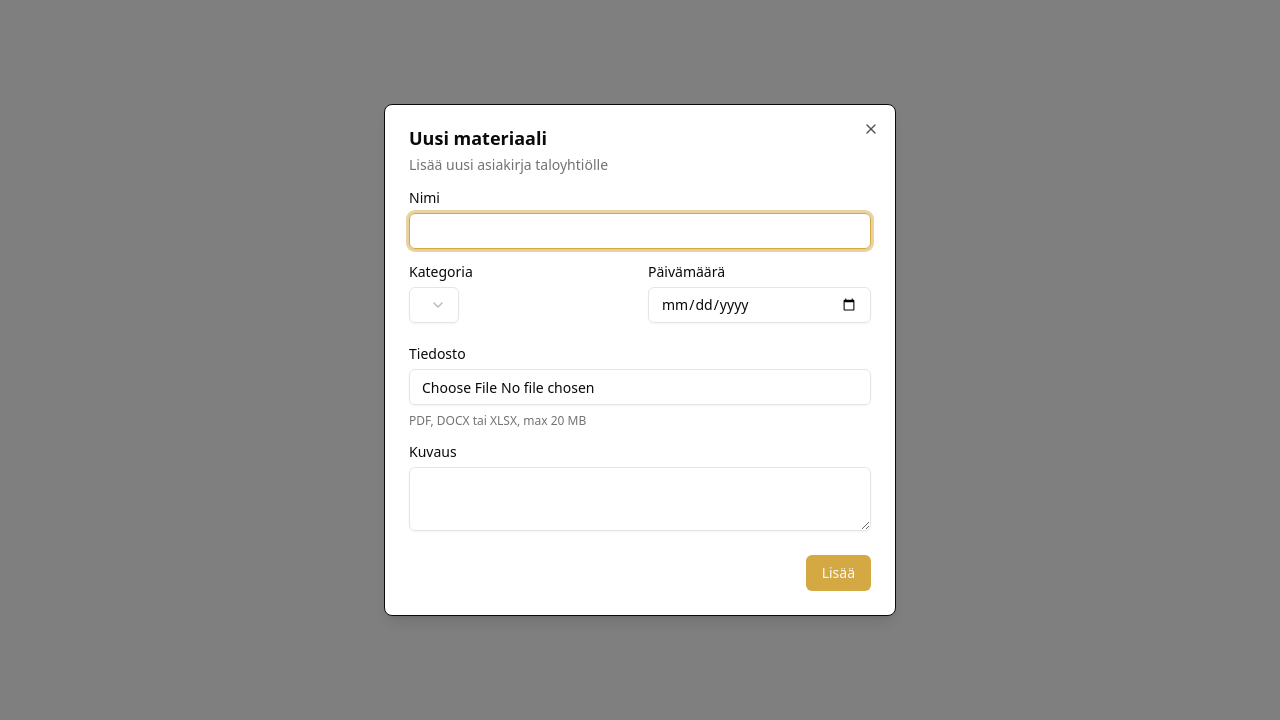
Test: MaterialFormDialog › shows validation errors when submitting empty form
What coordinates should you click on to do the following:
click the button "Lisää"
I would click on:
 (838, 573)
Its box is [806,555,871,591].
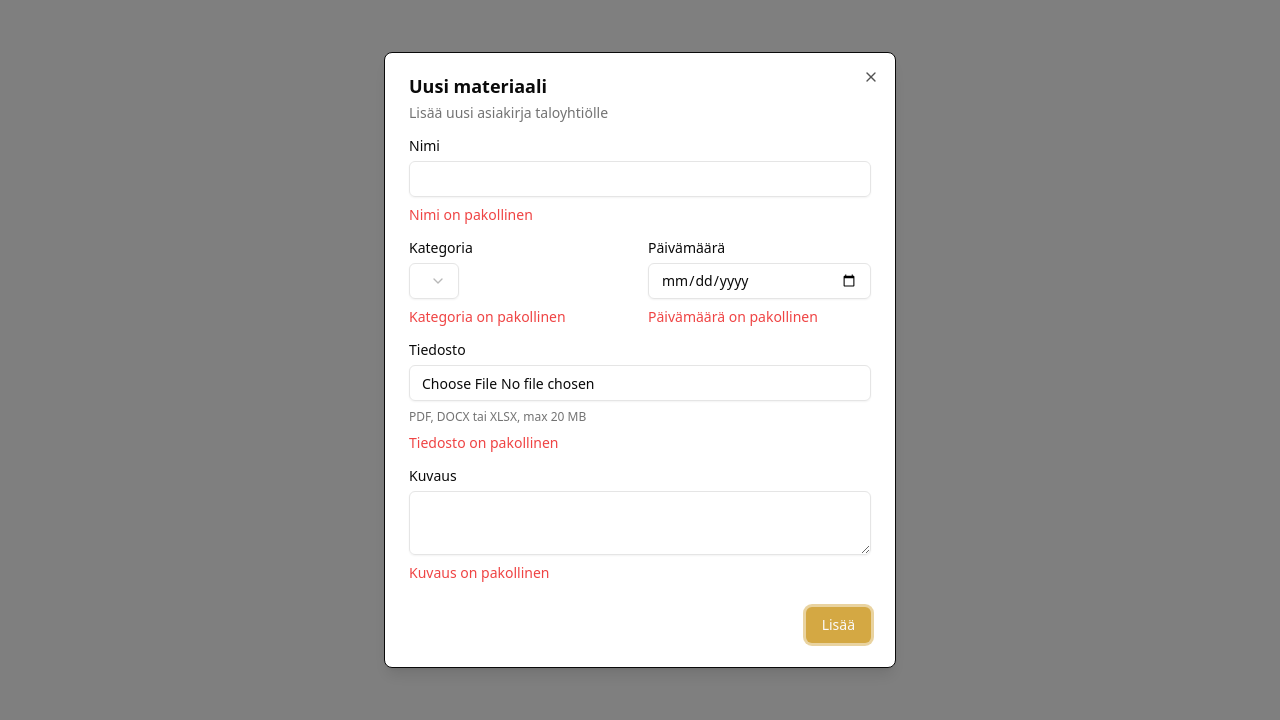
Check: the text "Nimi on pakollinen" is shown, box [409,205,533,224]
Check: the text "Kategoria on pakollinen" is shown, box [409,307,566,326]
Check: the text "Tiedosto on pakollinen" is shown, box [409,433,558,452]
